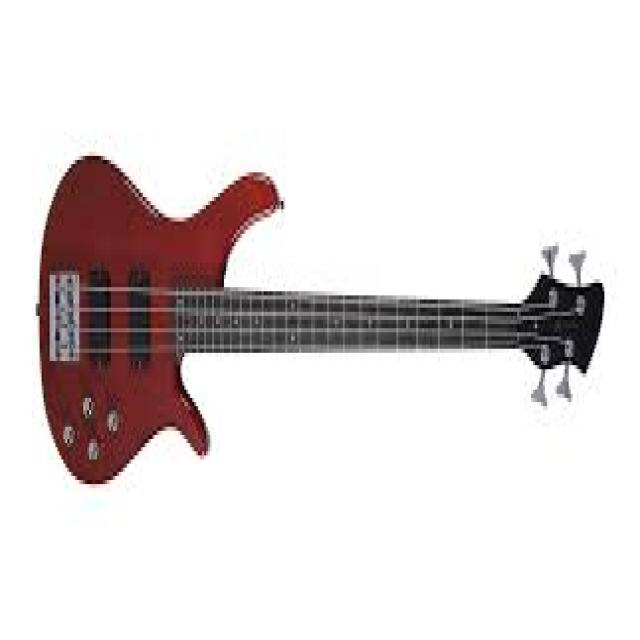bass: (38, 156, 604, 480)
